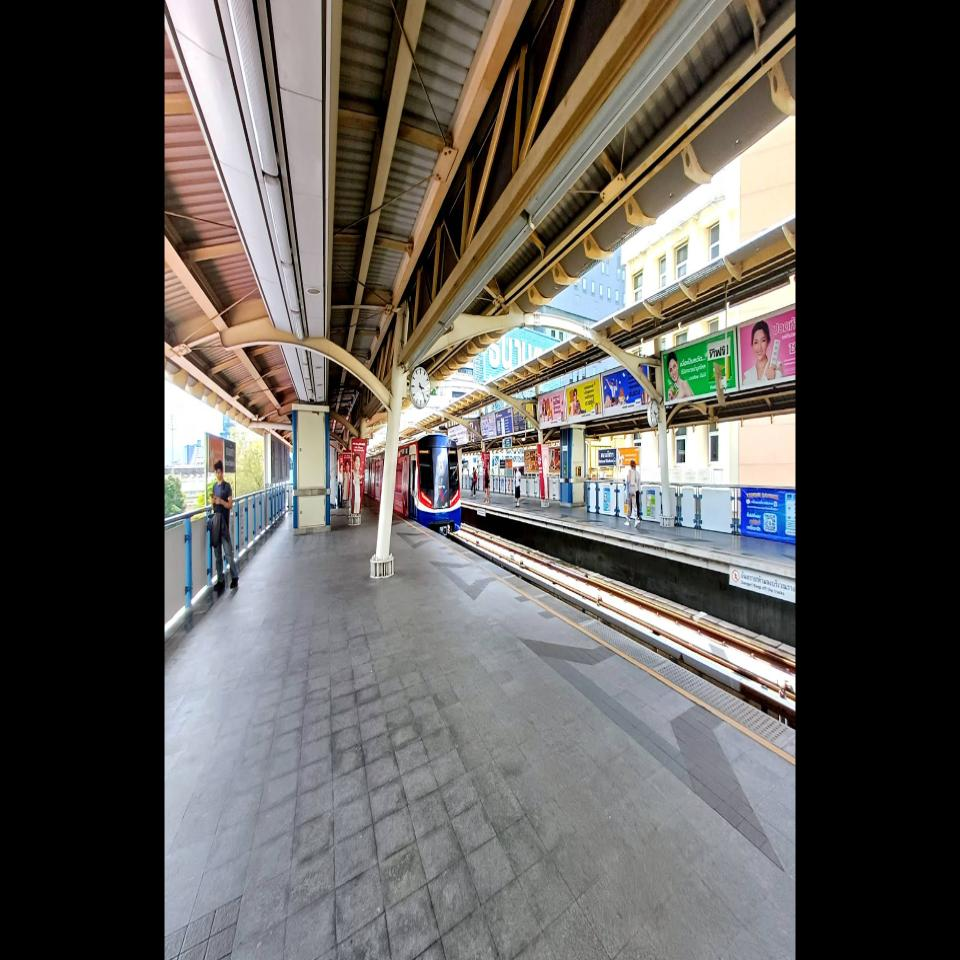National Stadium: (617, 446, 640, 466), (598, 448, 617, 468)
